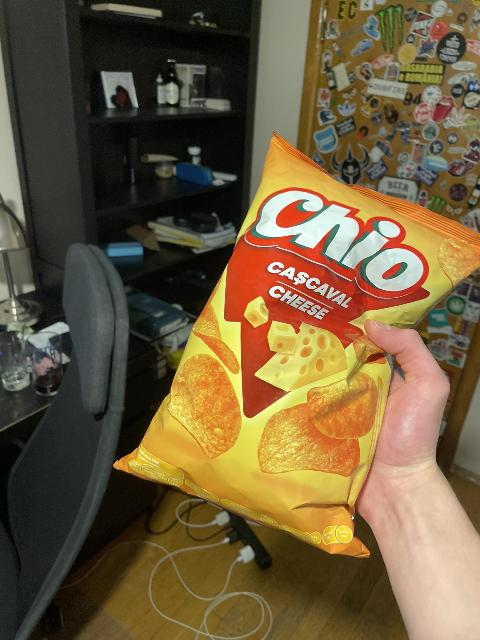Chio Cascaval 125g: (113, 136, 480, 557)
